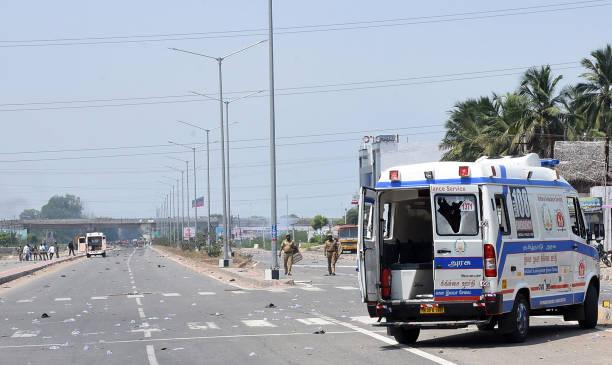ER: (356, 155, 602, 342)
